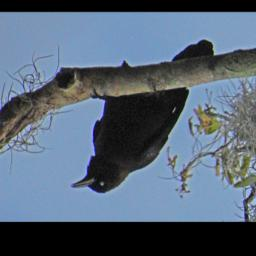Crow: (71, 38, 215, 193)
